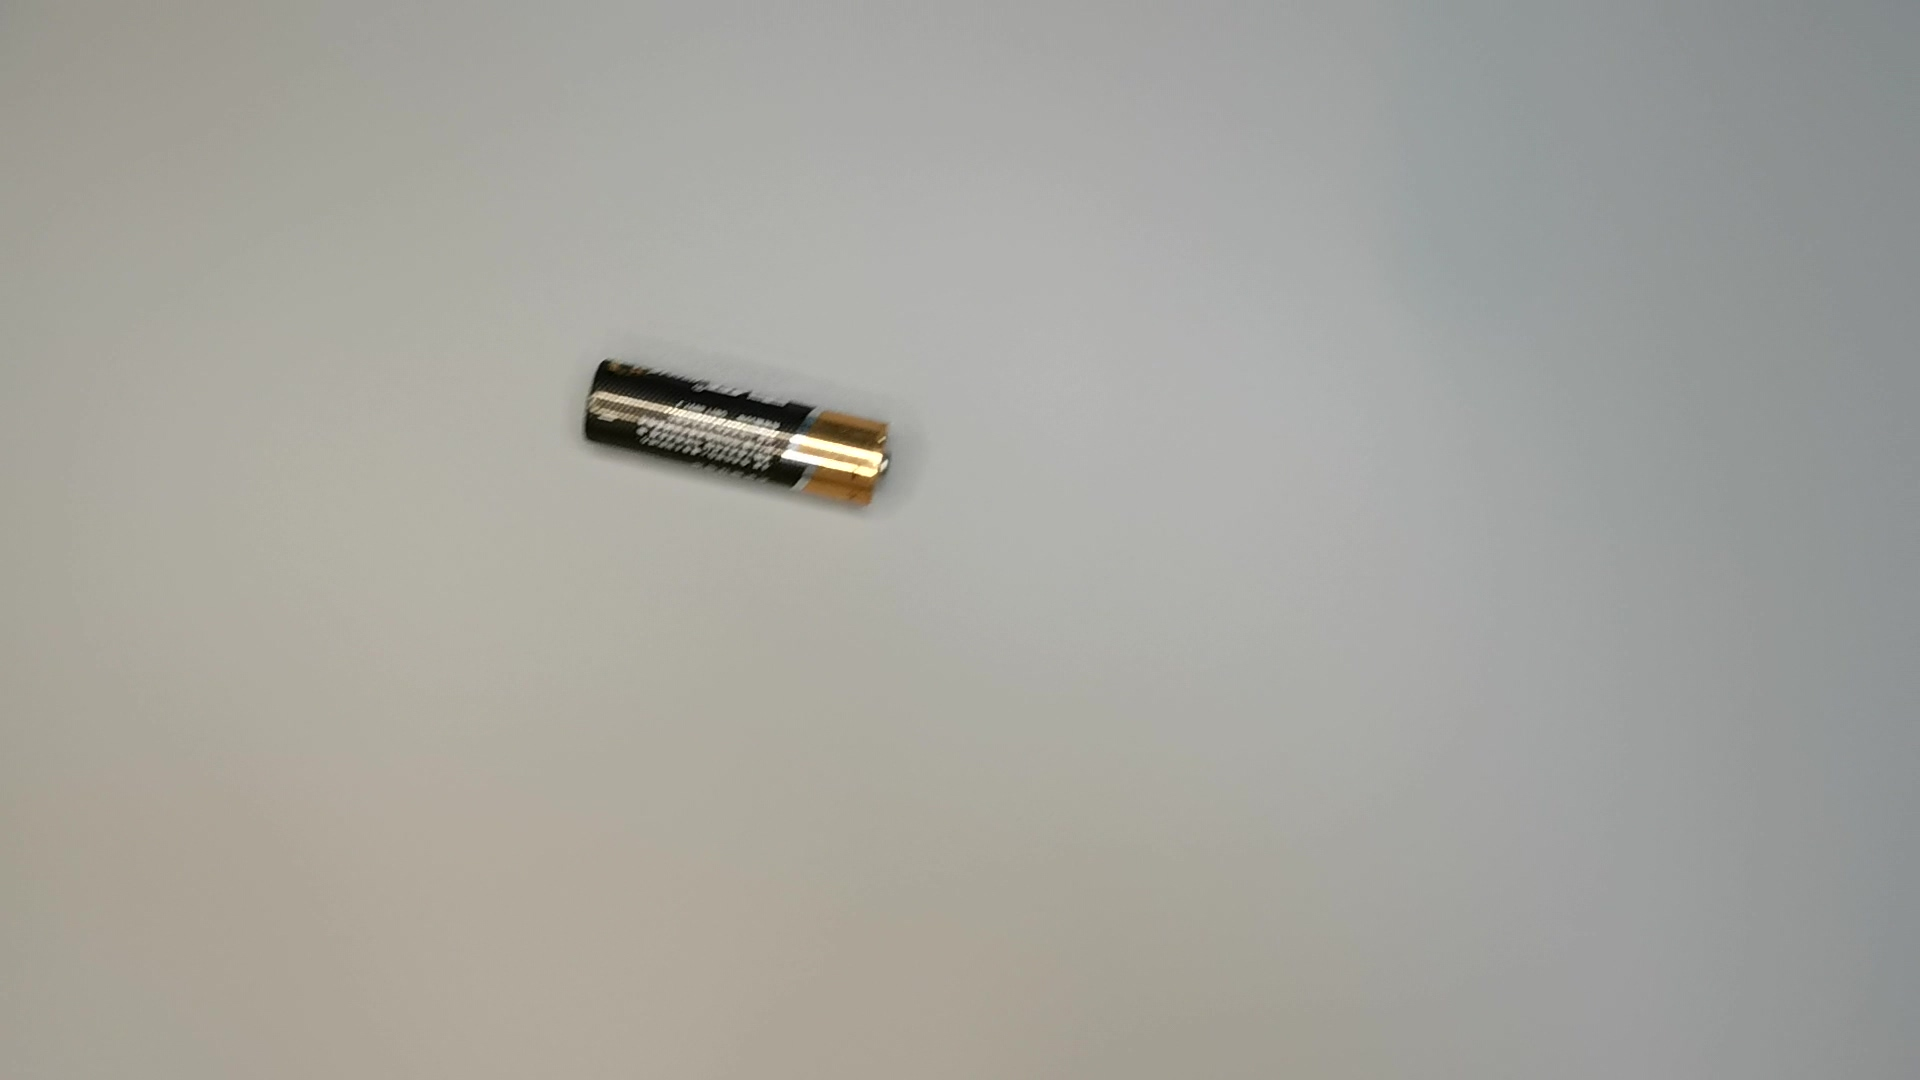battery: (574, 352, 905, 524)
